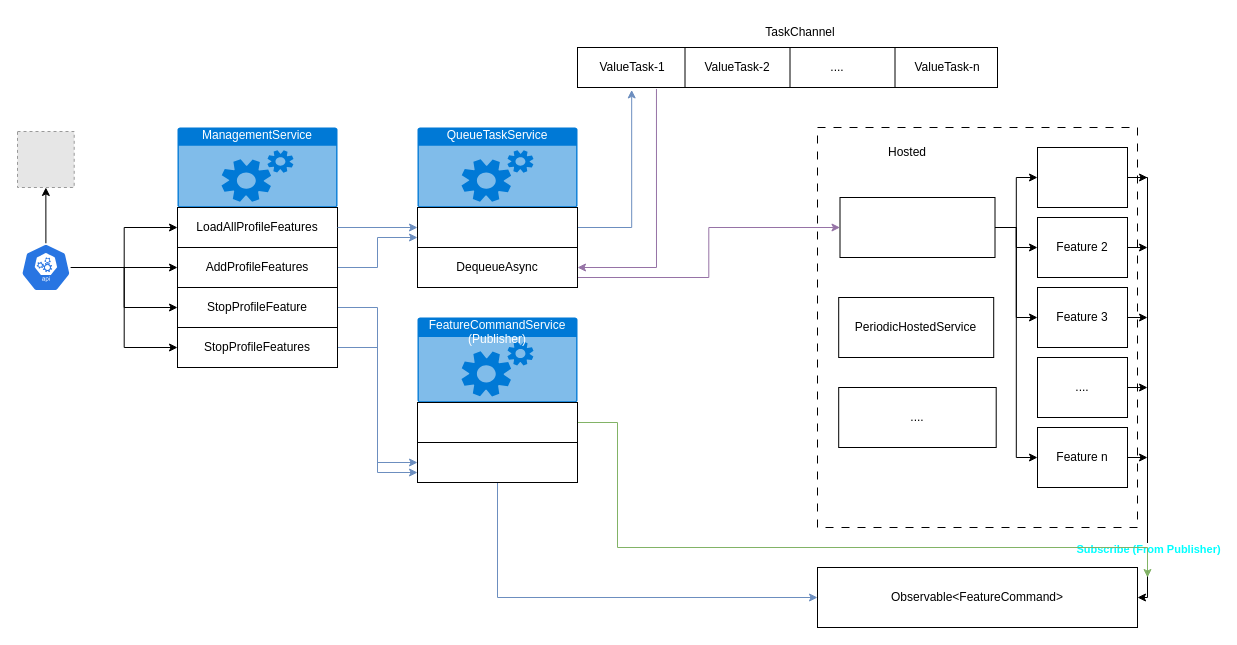
This 1237x645 diagram has some shape labels left out. Grey dashed boxes stand in for pictures. Each missing label, with the centre of its shape:
Feature 1 (Observer): point (1082, 177)
QueueAsync: point (497, 227)
QueuedHostedService: point (917, 227)
SendCommand: point (497, 462)
Subscribe: point (497, 422)
